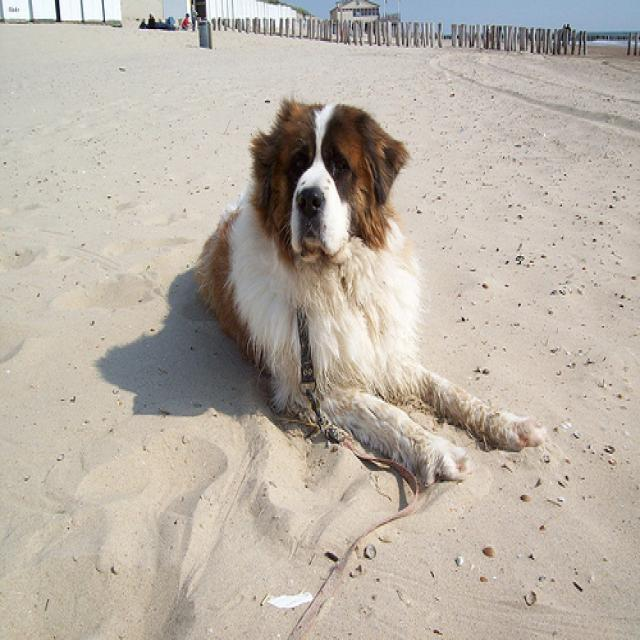dog-saint_bernard: (182, 82, 553, 498)
